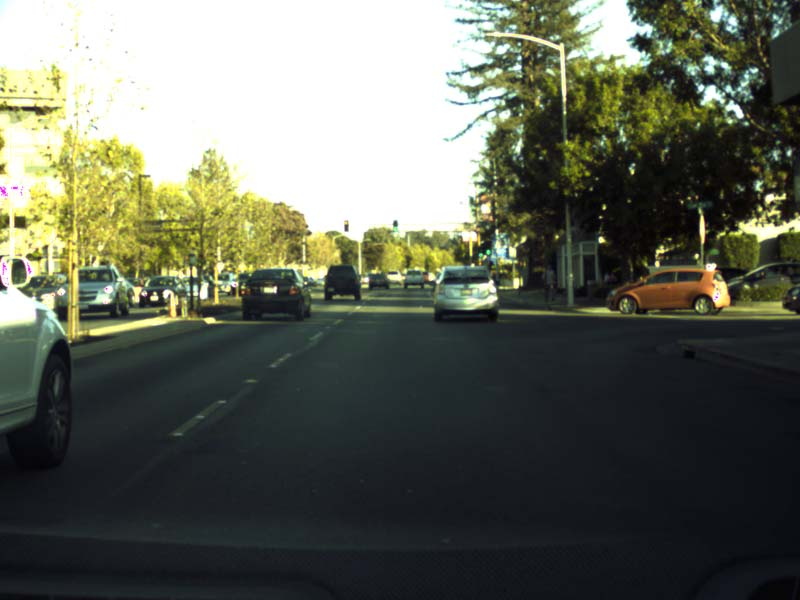Green: (484, 243, 491, 255), (392, 219, 398, 231), (476, 247, 482, 258)
Red: (343, 220, 348, 231)
